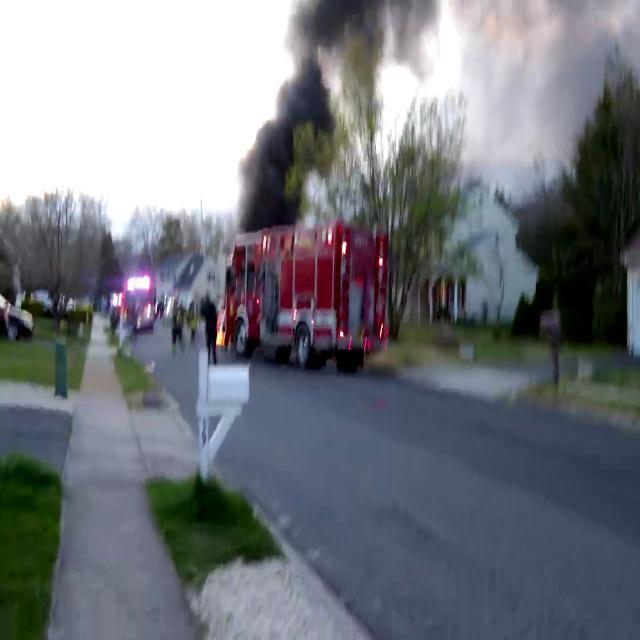Smoke: (242, 0, 392, 232)
